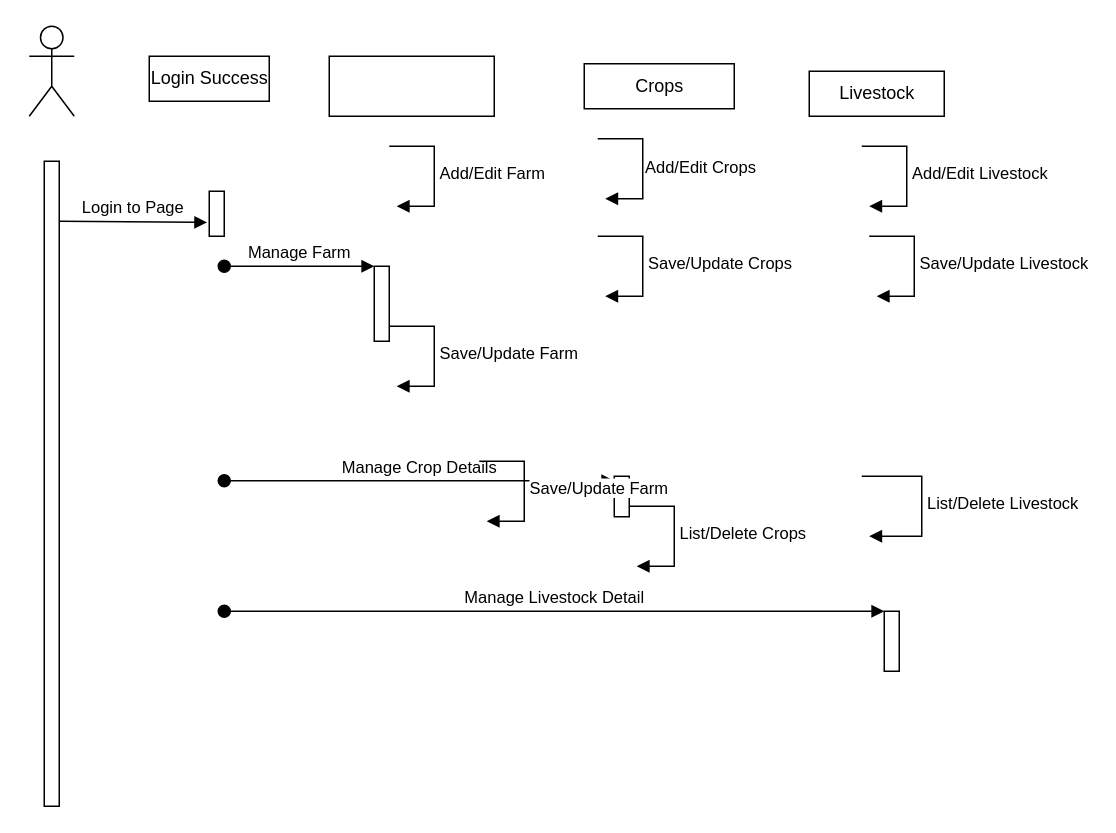
The diagram is 1116 pixels wide and 833 high, and some of its shapes have lost their labels. Here are the shapes that lost their labels. From the top down, the centre of each, then its label:
point 51,70: Owner
point 411,85: Farm Management
